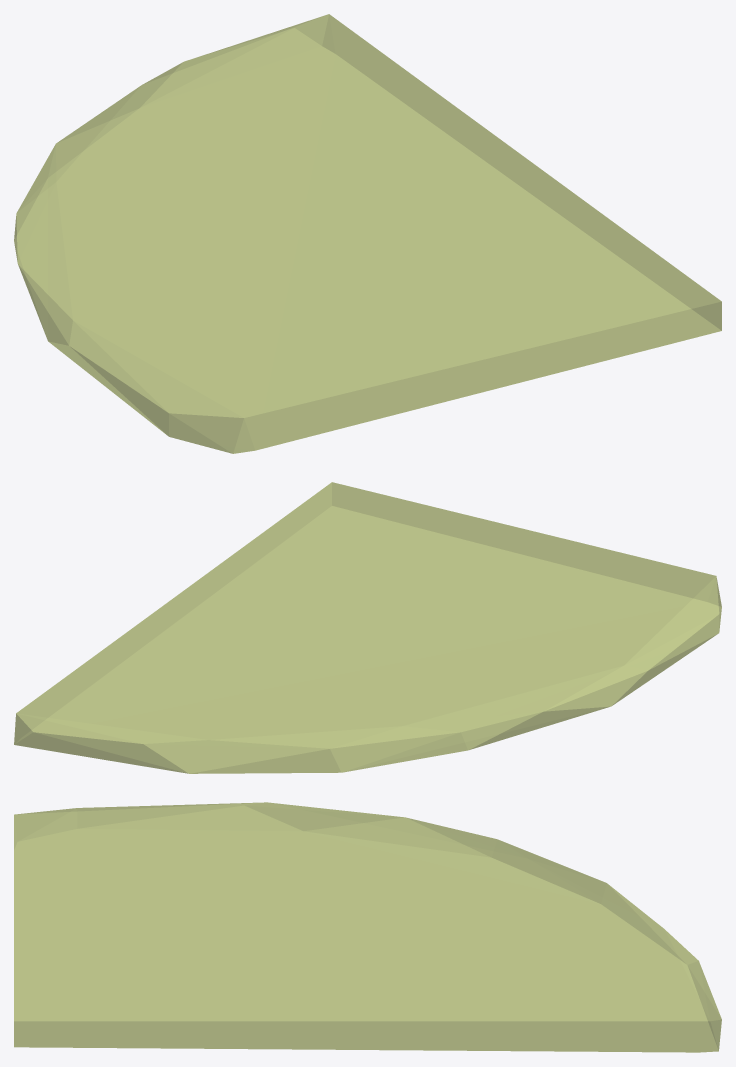
3 renders of one model, top to bottom at view 1: azimuth 30°, elevation 25°; view 2: azimuth 150°, elevation 25°; view 3: azimuth 270°, elevation 25°, orthographic. The views are drawn at different scales.
Visible parts, largest first — view 1: Shape_IndexedFaceSet.002_Shape_IndexedFaceSet.12324; view 2: Shape_IndexedFaceSet.002_Shape_IndexedFaceSet.12324; view 3: Shape_IndexedFaceSet.002_Shape_IndexedFaceSet.12324.
Part boxes in pixels (x1,y1,x2,y2): Shape_IndexedFaceSet.002_Shape_IndexedFaceSet.12324: (14, 14, 721, 453); Shape_IndexedFaceSet.002_Shape_IndexedFaceSet.12324: (14, 482, 721, 773); Shape_IndexedFaceSet.002_Shape_IndexedFaceSet.12324: (14, 802, 721, 1052).
Size of the model in its own units: 0.2317 by 0.015 by 0.3065.
